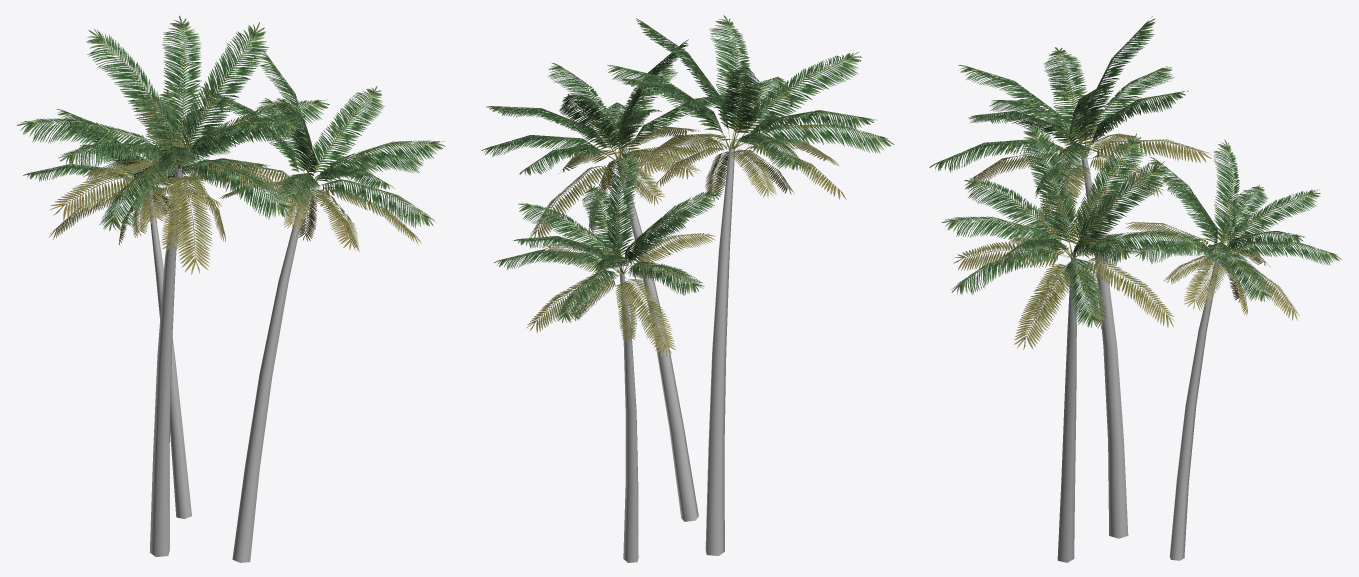
The model's file is Palm (group).fbx.
3 views of the same model, side by side, from view 1: azimuth 30°, elevation 25°; view 2: azimuth 150°, elevation 25°; view 3: azimuth 270°, elevation 25° (orthographic). The views are drawn at different scales.
Parts seen in each view (by area): view 1: Palms; view 2: Palms; view 3: Palms.
Part boxes in pixels (x1,y1,x2,y2): Palms: (16,15,445,562); Palms: (481,15,894,562); Palms: (929,16,1341,562).
Bounding box in the file's own units: 13.48 × 17.36 × 13.24.
